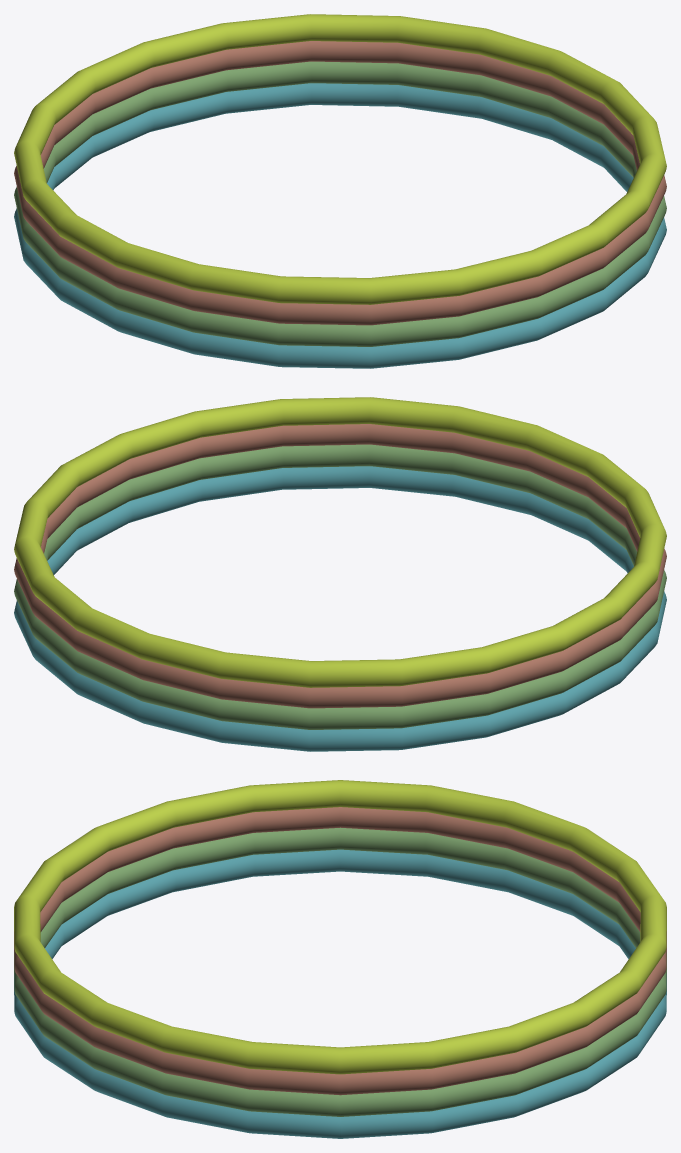
The model's file is BallPit.fbx.
3 renders of one model, top to bottom at view 1: azimuth 30°, elevation 25°; view 2: azimuth 150°, elevation 25°; view 3: azimuth 270°, elevation 25°, orthographic.
Visible parts, largest first — view 1: pTorus5; view 2: pTorus5; view 3: pTorus5.
Boxes of the visible parts, box(x1,y1,x2,y2) form: pTorus5: box(14, 14, 666, 368); pTorus5: box(14, 397, 666, 751); pTorus5: box(14, 780, 666, 1138).
Bounding box in the file's own units: 44.01 × 6.57 × 43.59.
